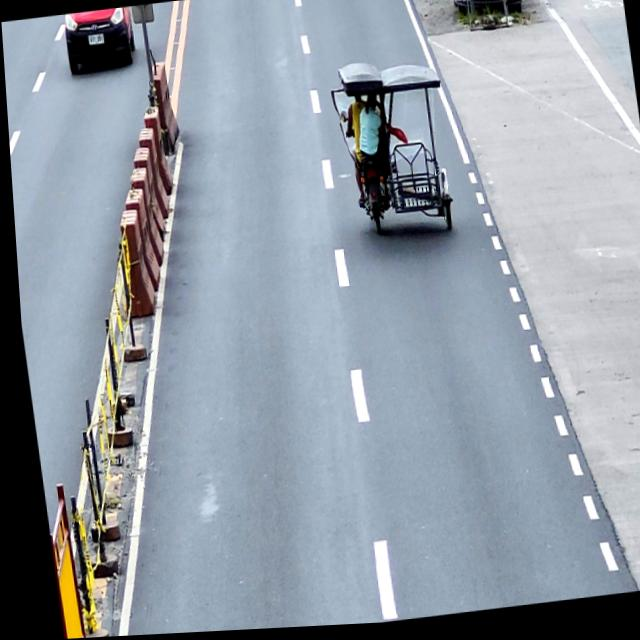Car: (61, 7, 136, 74)
License-Plate: (86, 34, 103, 46)
Tricycle: (332, 58, 455, 246)
